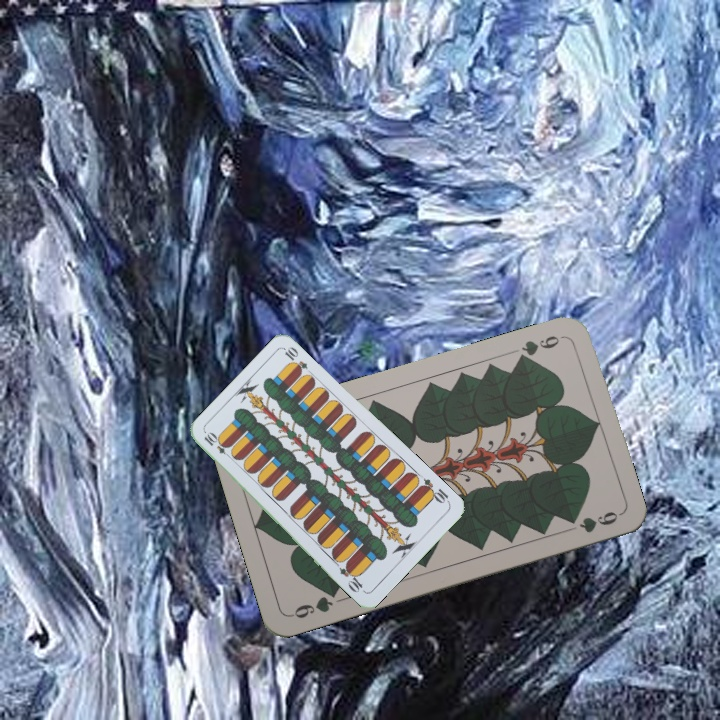E10: (416, 474, 452, 506), (200, 429, 235, 461)
G9: (287, 585, 341, 621), (513, 331, 568, 365)
